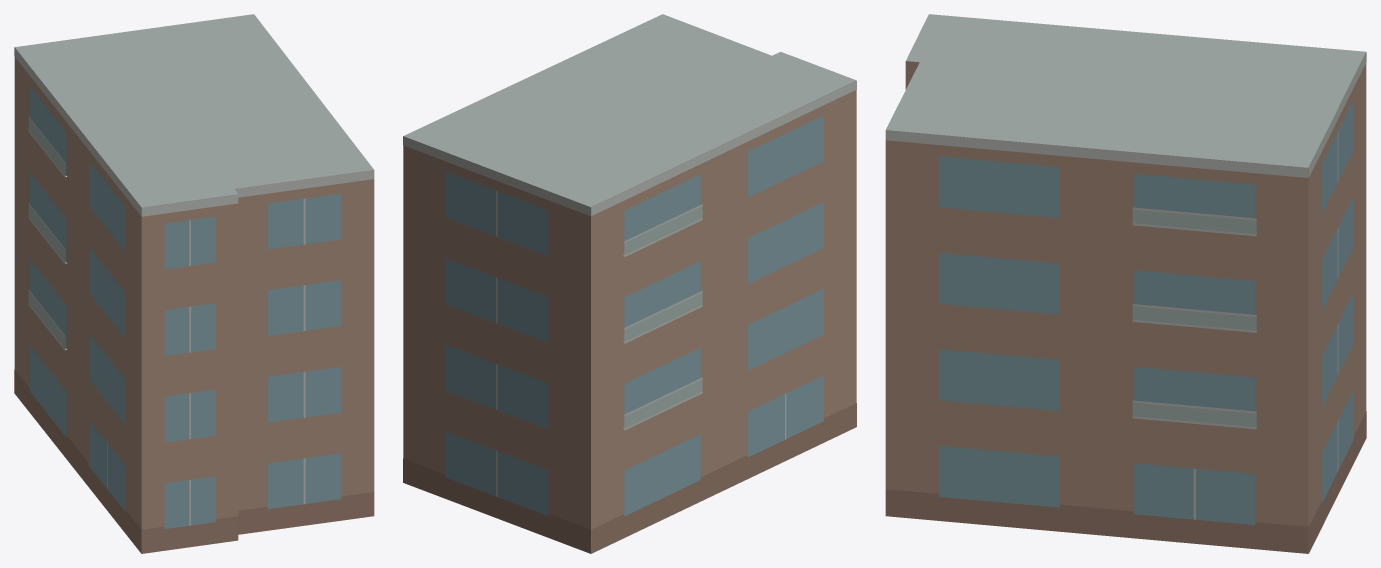
The model's file is survey-upis-32738469.glb.
The picture shows the model from 3 angles, left to right: view 1: azimuth 30°, elevation 25°; view 2: azimuth 150°, elevation 25°; view 3: azimuth 270°, elevation 25°; orthographic projection. The views are drawn at different scales.
Visible parts, largest first — view 1: survey-upis-32738469.tmp; view 2: survey-upis-32738469.tmp; view 3: survey-upis-32738469.tmp.
Part boxes in pixels (<box>): survey-upis-32738469.tmp: <box>14,14,374,553</box>; survey-upis-32738469.tmp: <box>403,14,856,553</box>; survey-upis-32738469.tmp: <box>885,14,1366,553</box>.
Size of the model in its own units: 7.87 by 9.2 by 10.4.
